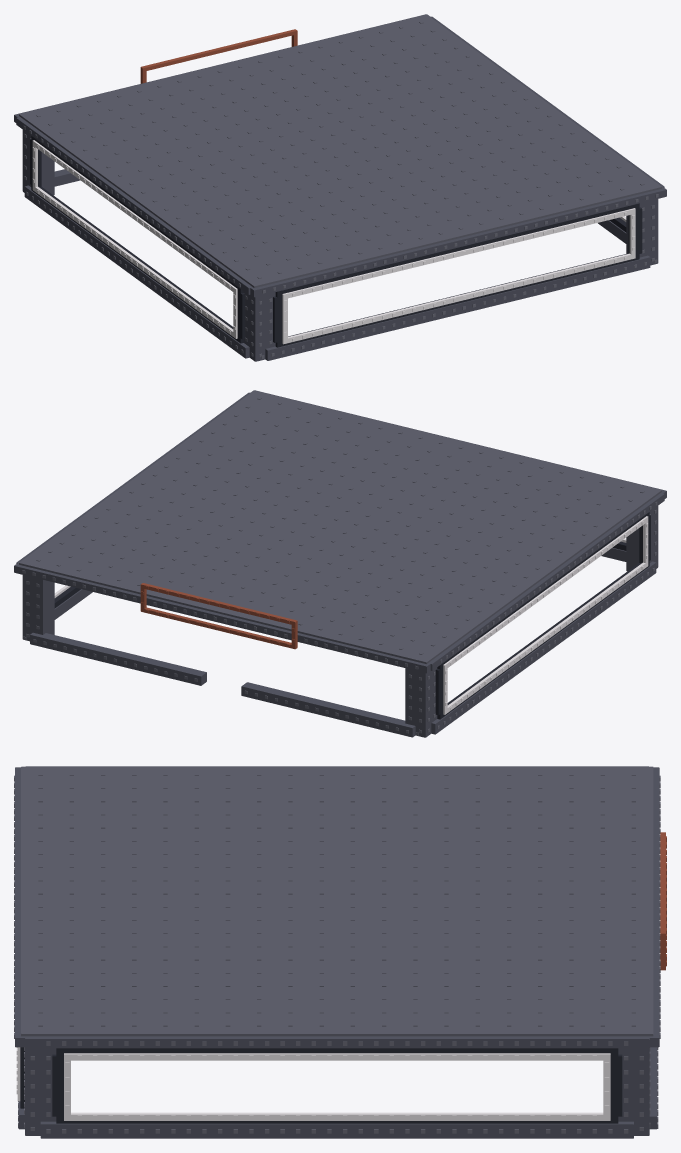
File: BaseIndustrial.fbx
3 views of the same model, one above another, from view 1: azimuth 30°, elevation 25°; view 2: azimuth 150°, elevation 25°; view 3: azimuth 270°, elevation 25° (orthographic). The views are drawn at different scales.
Parts seen in each view (by area): view 1: BI_Roof.001, BI_Colunas.001, BI_MoldurasBrancas.001, BI_Estrutura.001, BI_StudsCinza.001, BI_MolduraPlaca.001; view 2: BI_Roof.001, BI_Colunas.001, BI_MoldurasBrancas.001, BI_Estrutura.001, BI_StudsCinza.001, BI_MolduraPlaca.001; view 3: BI_Roof.001, BI_Colunas.001, BI_MoldurasBrancas.001, BI_Estrutura.001, BI_StudsCinza.001, BI_MolduraPlaca.001.
Part boxes in pixels (x1=…): BI_Roof.001: x1=19, y1=14, x2=661, y2=287; BI_Colunas.001: x1=14, y1=14, x2=666, y2=361; BI_MoldurasBrancas.001: x1=32, y1=140, x2=635, y2=344; BI_Estrutura.001: x1=30, y1=136, x2=642, y2=347; BI_StudsCinza.001: x1=23, y1=126, x2=658, y2=358; BI_MolduraPlaca.001: x1=140, y1=29, x2=297, y2=83; BI_Roof.001: x1=19, y1=390, x2=661, y2=663; BI_Colunas.001: x1=14, y1=390, x2=666, y2=737; BI_MoldurasBrancas.001: x1=54, y1=516, x2=648, y2=714; BI_Estrutura.001: x1=54, y1=512, x2=650, y2=719; BI_StudsCinza.001: x1=22, y1=502, x2=657, y2=735; BI_MolduraPlaca.001: x1=140, y1=583, x2=297, y2=649; BI_Roof.001: x1=21, y1=766, x2=653, y2=1036; BI_Colunas.001: x1=15, y1=766, x2=659, y2=1138; BI_MoldurasBrancas.001: x1=16, y1=1047, x2=610, y2=1120; BI_Estrutura.001: x1=20, y1=1047, x2=622, y2=1123; BI_StudsCinza.001: x1=14, y1=775, x2=660, y2=1133; BI_MolduraPlaca.001: x1=660, y1=832, x2=666, y2=970.
Size of the model in its own units: 16566 by 3417 by 16730.
